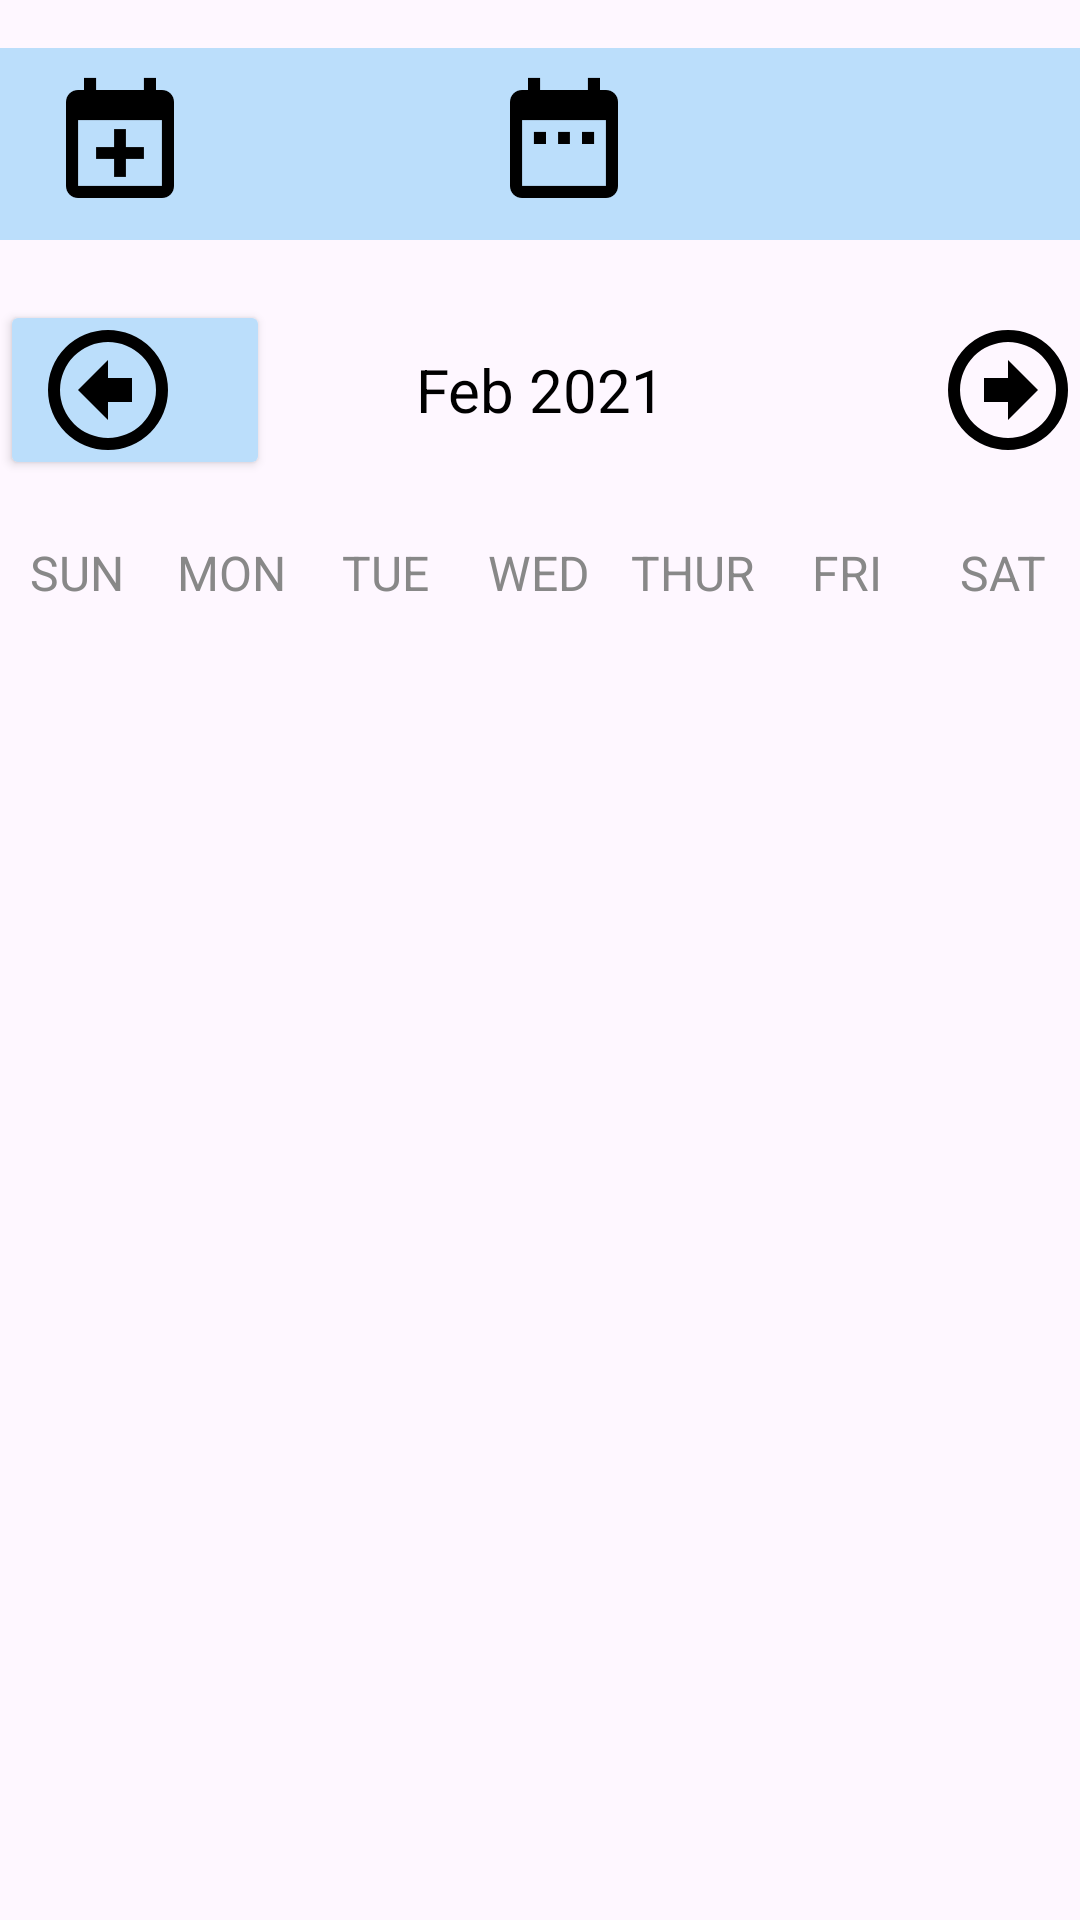

Where to tap for icons on this 1080x1920 app screen, as (x,y):
New Meeting: (120,138)
Weekly: (564,138)
